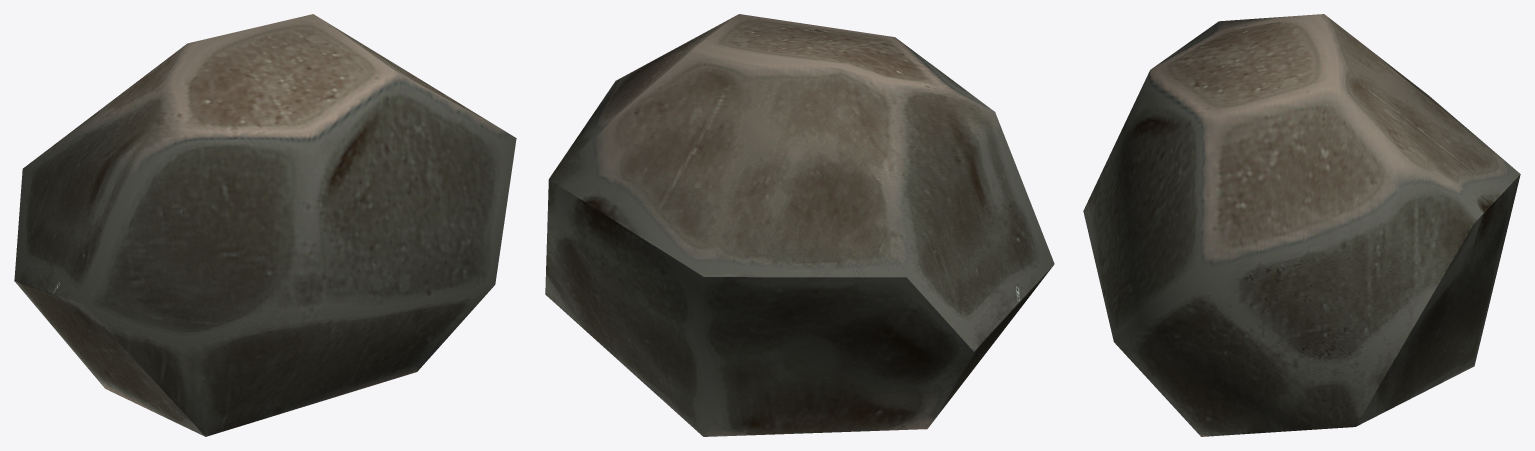
File: pebble_2.fbx
The picture shows the model from 3 angles, left to right: view 1: azimuth 30°, elevation 25°; view 2: azimuth 150°, elevation 25°; view 3: azimuth 270°, elevation 25°; orthographic projection. The views are drawn at different scales.
Parts seen in each view (by area): view 1: pebble_2; view 2: pebble_2; view 3: pebble_2.
Boxes of the visible parts, x1,y1,x2,y2 form: pebble_2: [14, 14, 516, 436]; pebble_2: [545, 14, 1054, 436]; pebble_2: [1083, 14, 1520, 436].
Size of the model in its own units: 0.3913 by 0.2897 by 0.3362.
